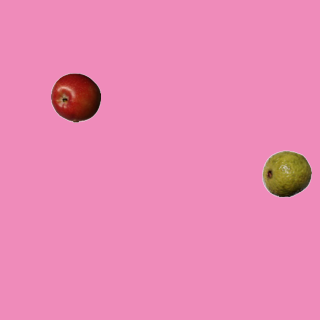Apple Braeburn: (50, 72, 100, 122)
Guava: (261, 148, 311, 198)
